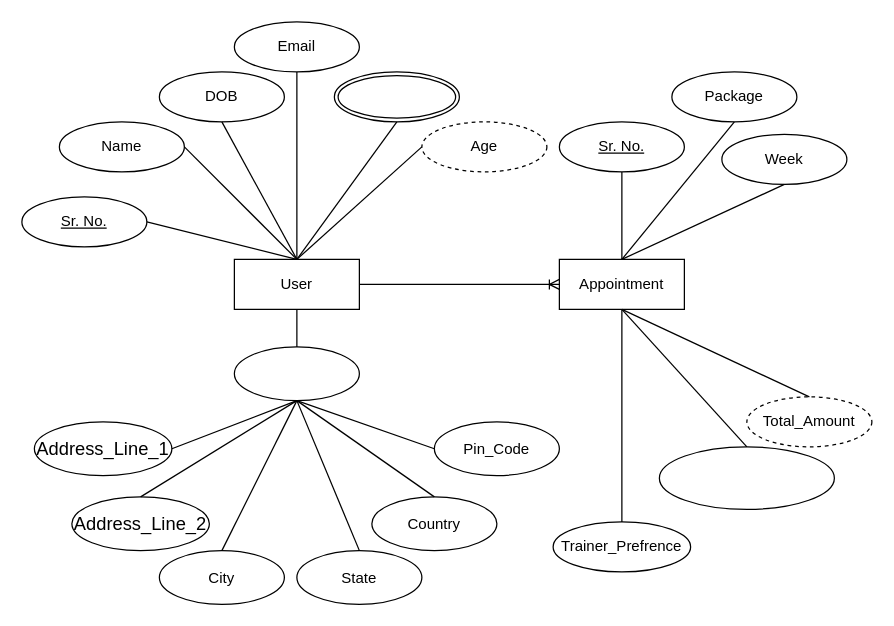
This 894x626 diagram has some shape labels left out. Each missing label, with the centre of its shape:
"Address" goes at (x=296, y=373).
"Phone_NO" goes at (x=396, y=96).
"Physiotherapist requirement" goes at (x=746, y=477).
